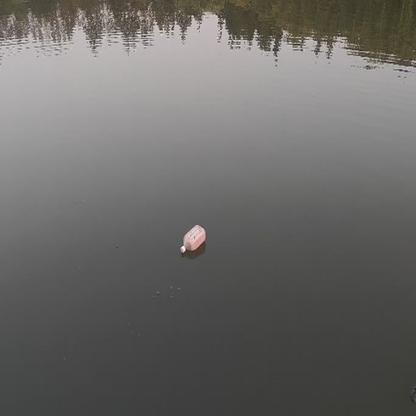plastic bottle: (180, 224, 207, 253)
